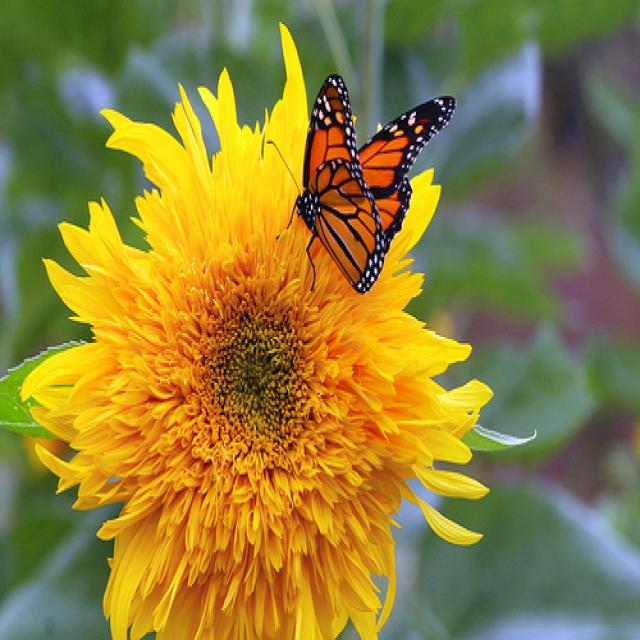sunflower: (18, 20, 493, 640)
